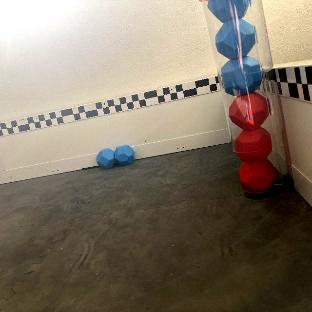V5_BLUE: (216, 8, 255, 58), (221, 55, 261, 93), (96, 144, 135, 169)
V5_RED: (229, 92, 269, 128), (234, 127, 271, 159), (240, 160, 274, 191)
